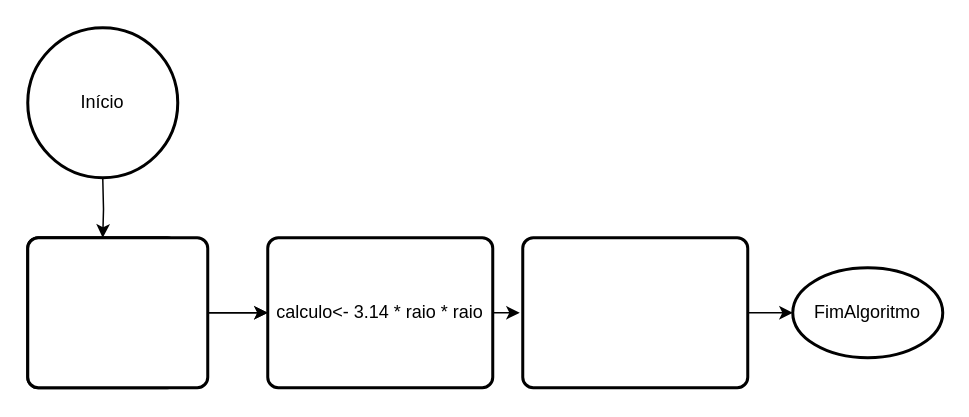
This 969x417 diagram has some shape labels left out. The centre of each missing label's shape, as x and y in pixels:
escreva ("A área do seu circulo é de:", calculo): [634,312]
var raio, calculo,area: real: [117,312]
